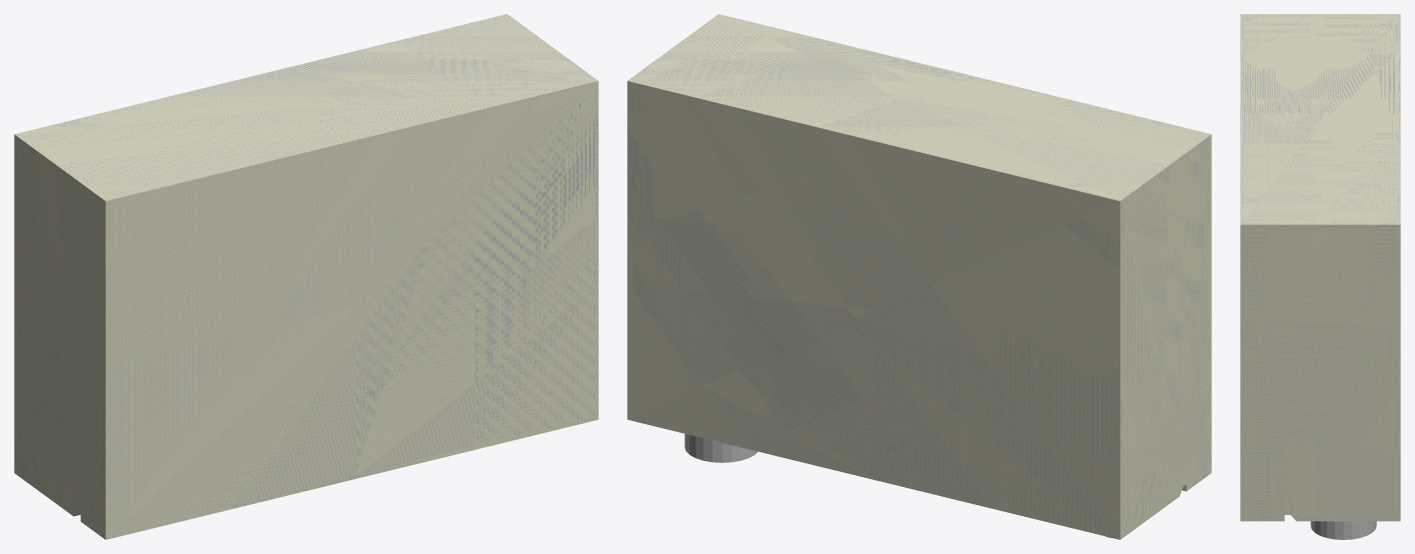
3 renders of one model, left to right at view 1: azimuth 30°, elevation 25°; view 2: azimuth 150°, elevation 25°; view 3: azimuth 270°, elevation 25°, orthographic. The views are drawn at different scales.
Visible parts, largest first — view 1: receiver; view 2: receiver; view 3: receiver.
Boxes of the visible parts, x1=… form: receiver: x1=14, y1=14, x2=598, y2=539; receiver: x1=627, y1=14, x2=1211, y2=539; receiver: x1=1240, y1=14, x2=1400, y2=539.
Bounding box in the file's own units: 18 × 13.07 × 5.78.
